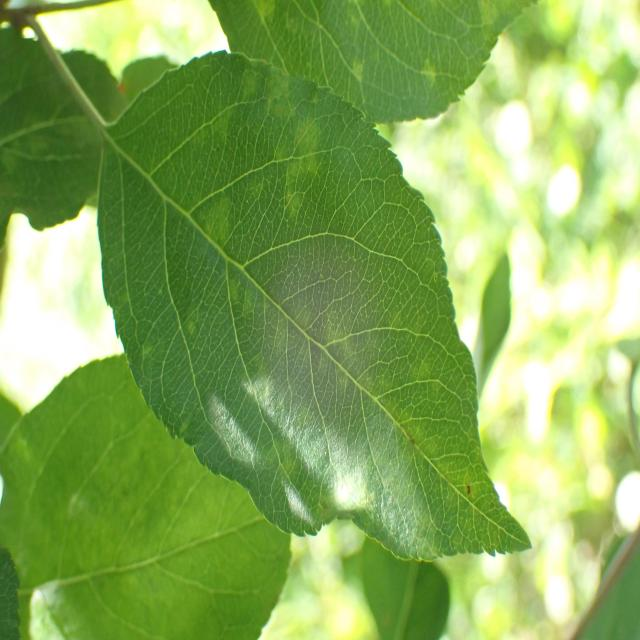scab: (185, 157, 498, 557)
